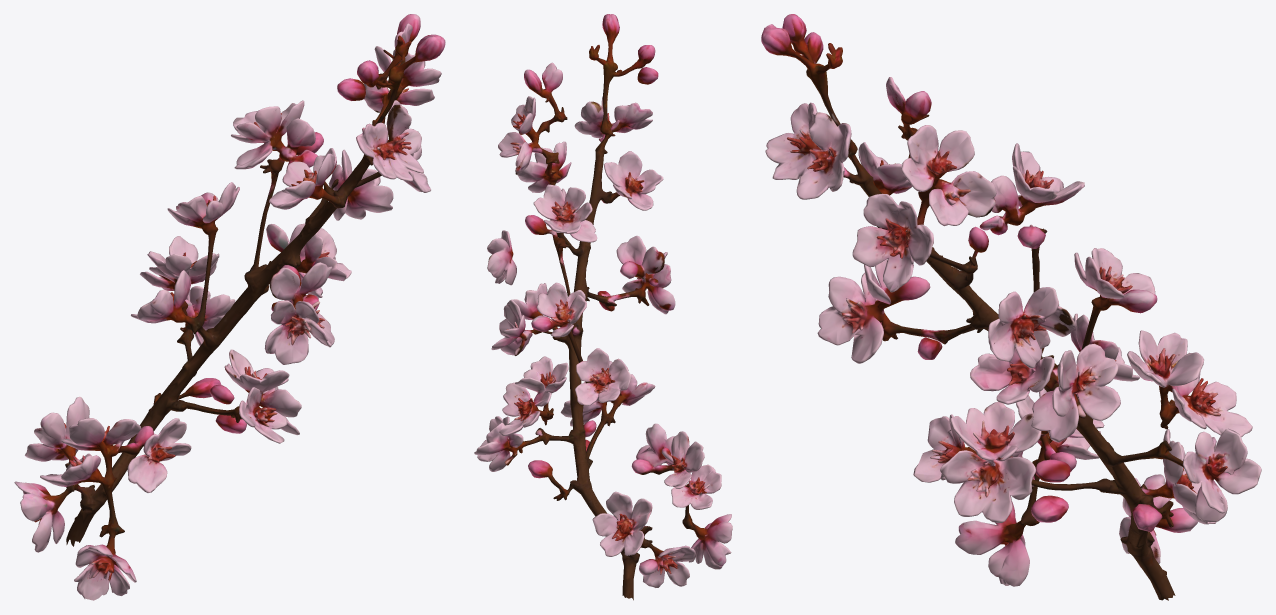
File: CherryBlossom.glb
The picture shows the model from 3 angles, left to right: view 1: azimuth 30°, elevation 25°; view 2: azimuth 150°, elevation 25°; view 3: azimuth 270°, elevation 25°; orthographic projection. The views are drawn at different scales.
Parts seen in each view (by area): view 1: tripo_node_47e147fc-9c0d-44b8-9bc2-7f8522bde2a9; view 2: tripo_node_47e147fc-9c0d-44b8-9bc2-7f8522bde2a9; view 3: tripo_node_47e147fc-9c0d-44b8-9bc2-7f8522bde2a9.
Boxes of the visible parts, x1=… form: tripo_node_47e147fc-9c0d-44b8-9bc2-7f8522bde2a9: x1=14, y1=14, x2=445, y2=600; tripo_node_47e147fc-9c0d-44b8-9bc2-7f8522bde2a9: x1=474, y1=14, x2=732, y2=600; tripo_node_47e147fc-9c0d-44b8-9bc2-7f8522bde2a9: x1=761, y1=14, x2=1261, y2=600.
Size of the model in its own units: 0.5263 by 0.8804 by 0.5831.
1 material, 1 textured.
